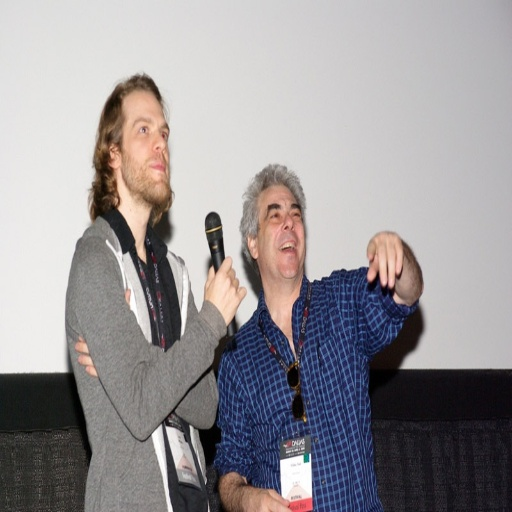hand: (76, 288, 130, 378), (196, 254, 247, 320), (364, 229, 403, 292), (243, 487, 293, 510)
